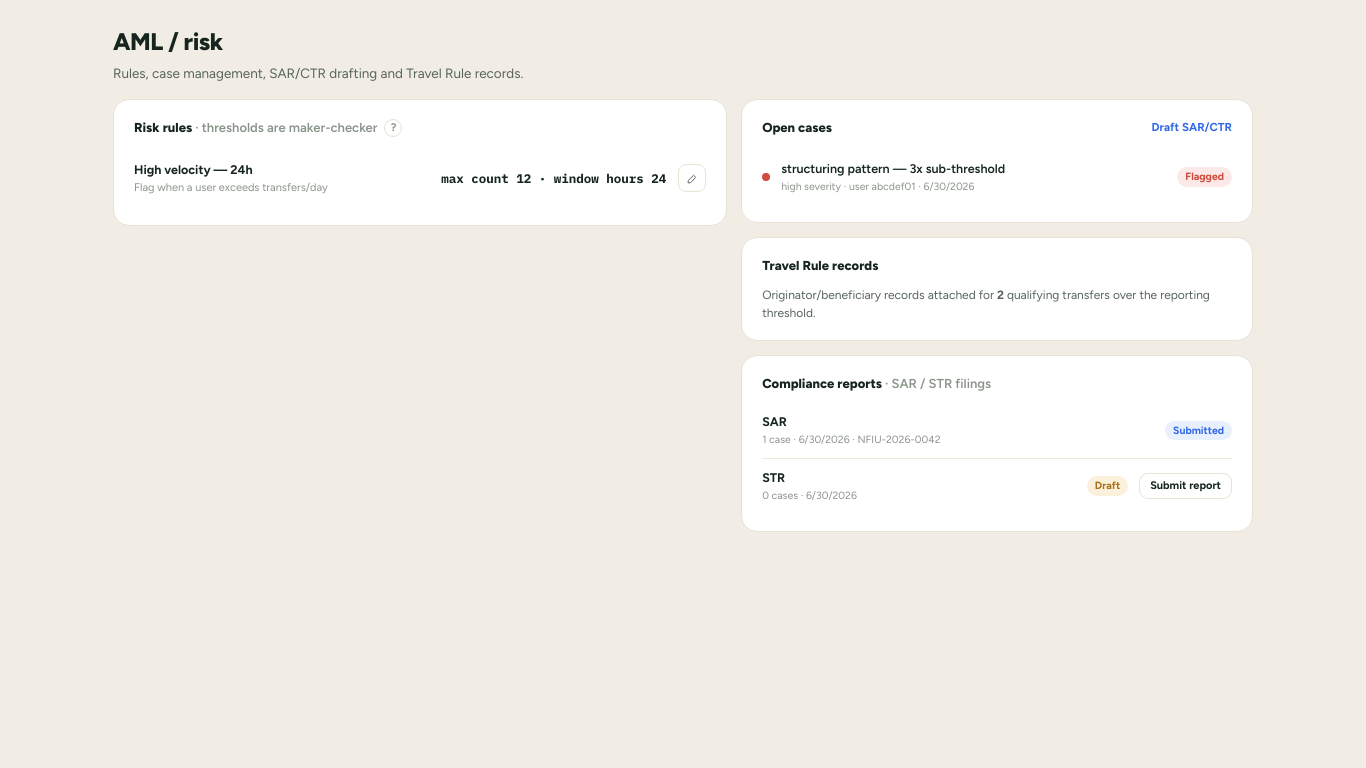
Test: AmlPage › exposes a help affordance listing example AML rule types
Click the button named "Example AML rule types" at (394, 128), box left=384, top=119, right=402, bottom=137
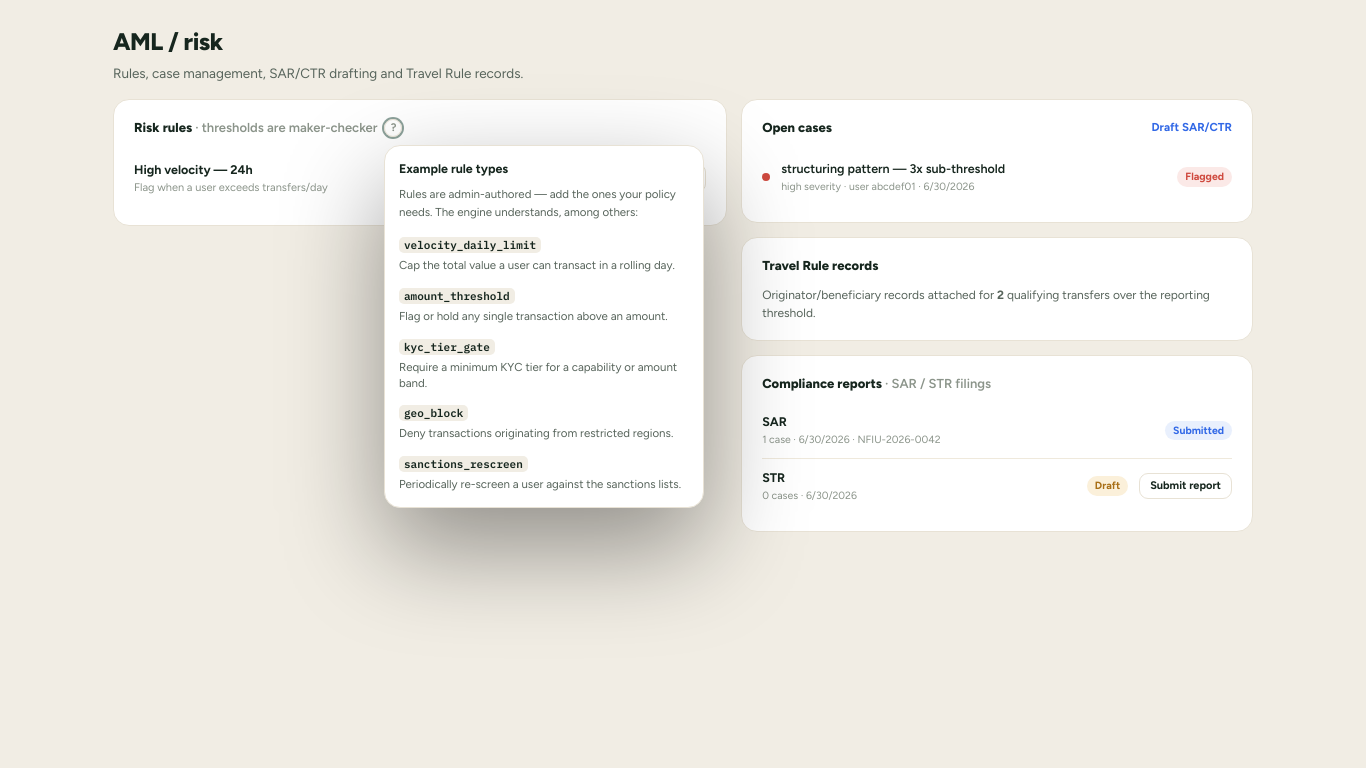
Check: the text "velocity_daily_limit" is shown, box left=399, top=237, right=541, bottom=253
Check: the text "amount_threshold" is shown, box left=399, top=288, right=515, bottom=304
Check: the text "sanctions_rescreen" is shown, box left=399, top=456, right=528, bottom=472
